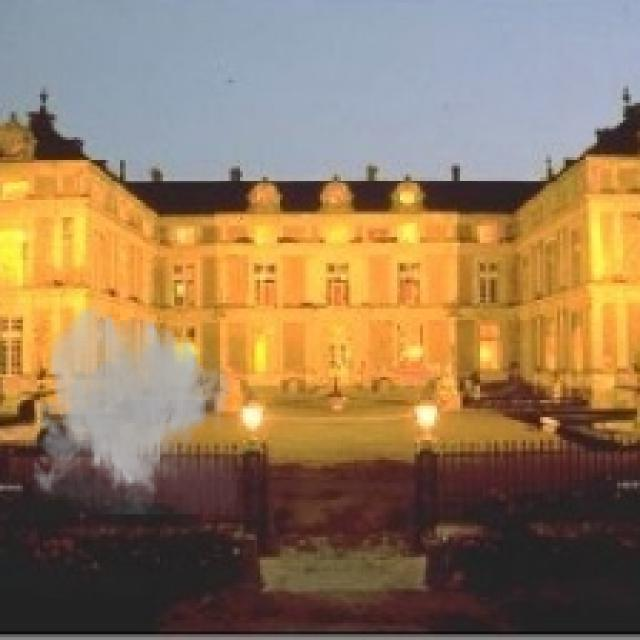Smoke: (26, 302, 238, 514)
